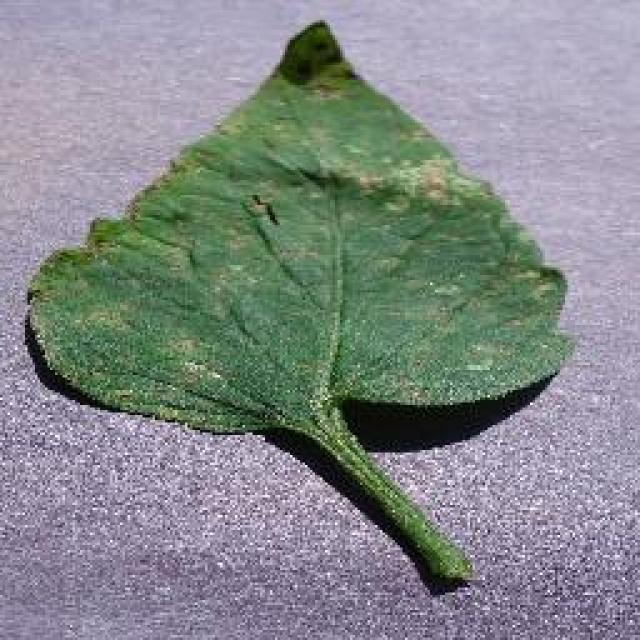Tomato___Septoria_leaf_spot: (28, 22, 570, 580)
